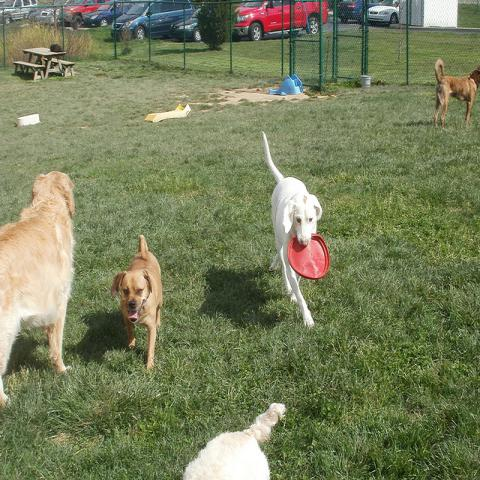car: (236, 1, 327, 42), (110, 0, 190, 41), (129, 0, 203, 43), (56, 1, 108, 33), (83, 0, 139, 28), (364, 0, 406, 26), (336, 0, 382, 23), (0, 0, 39, 26), (34, 11, 55, 25)
truck: (231, 0, 329, 44), (112, 0, 196, 40)
